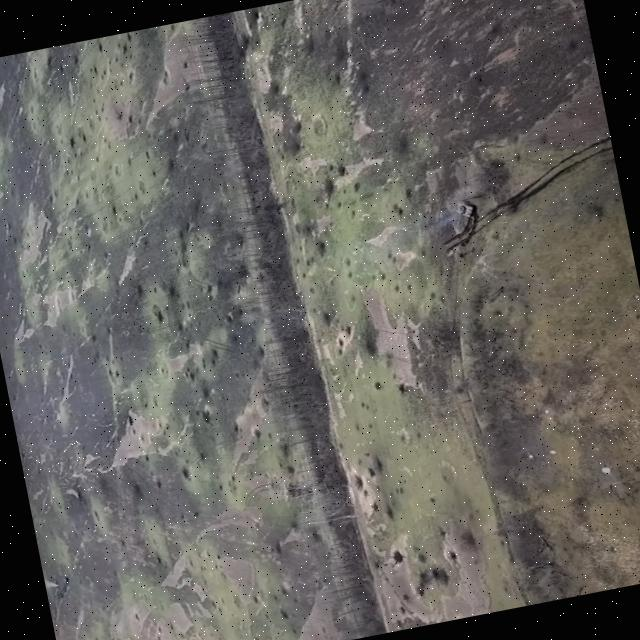AIFV: (63, 577, 73, 587)
MBT: (450, 198, 484, 227)
